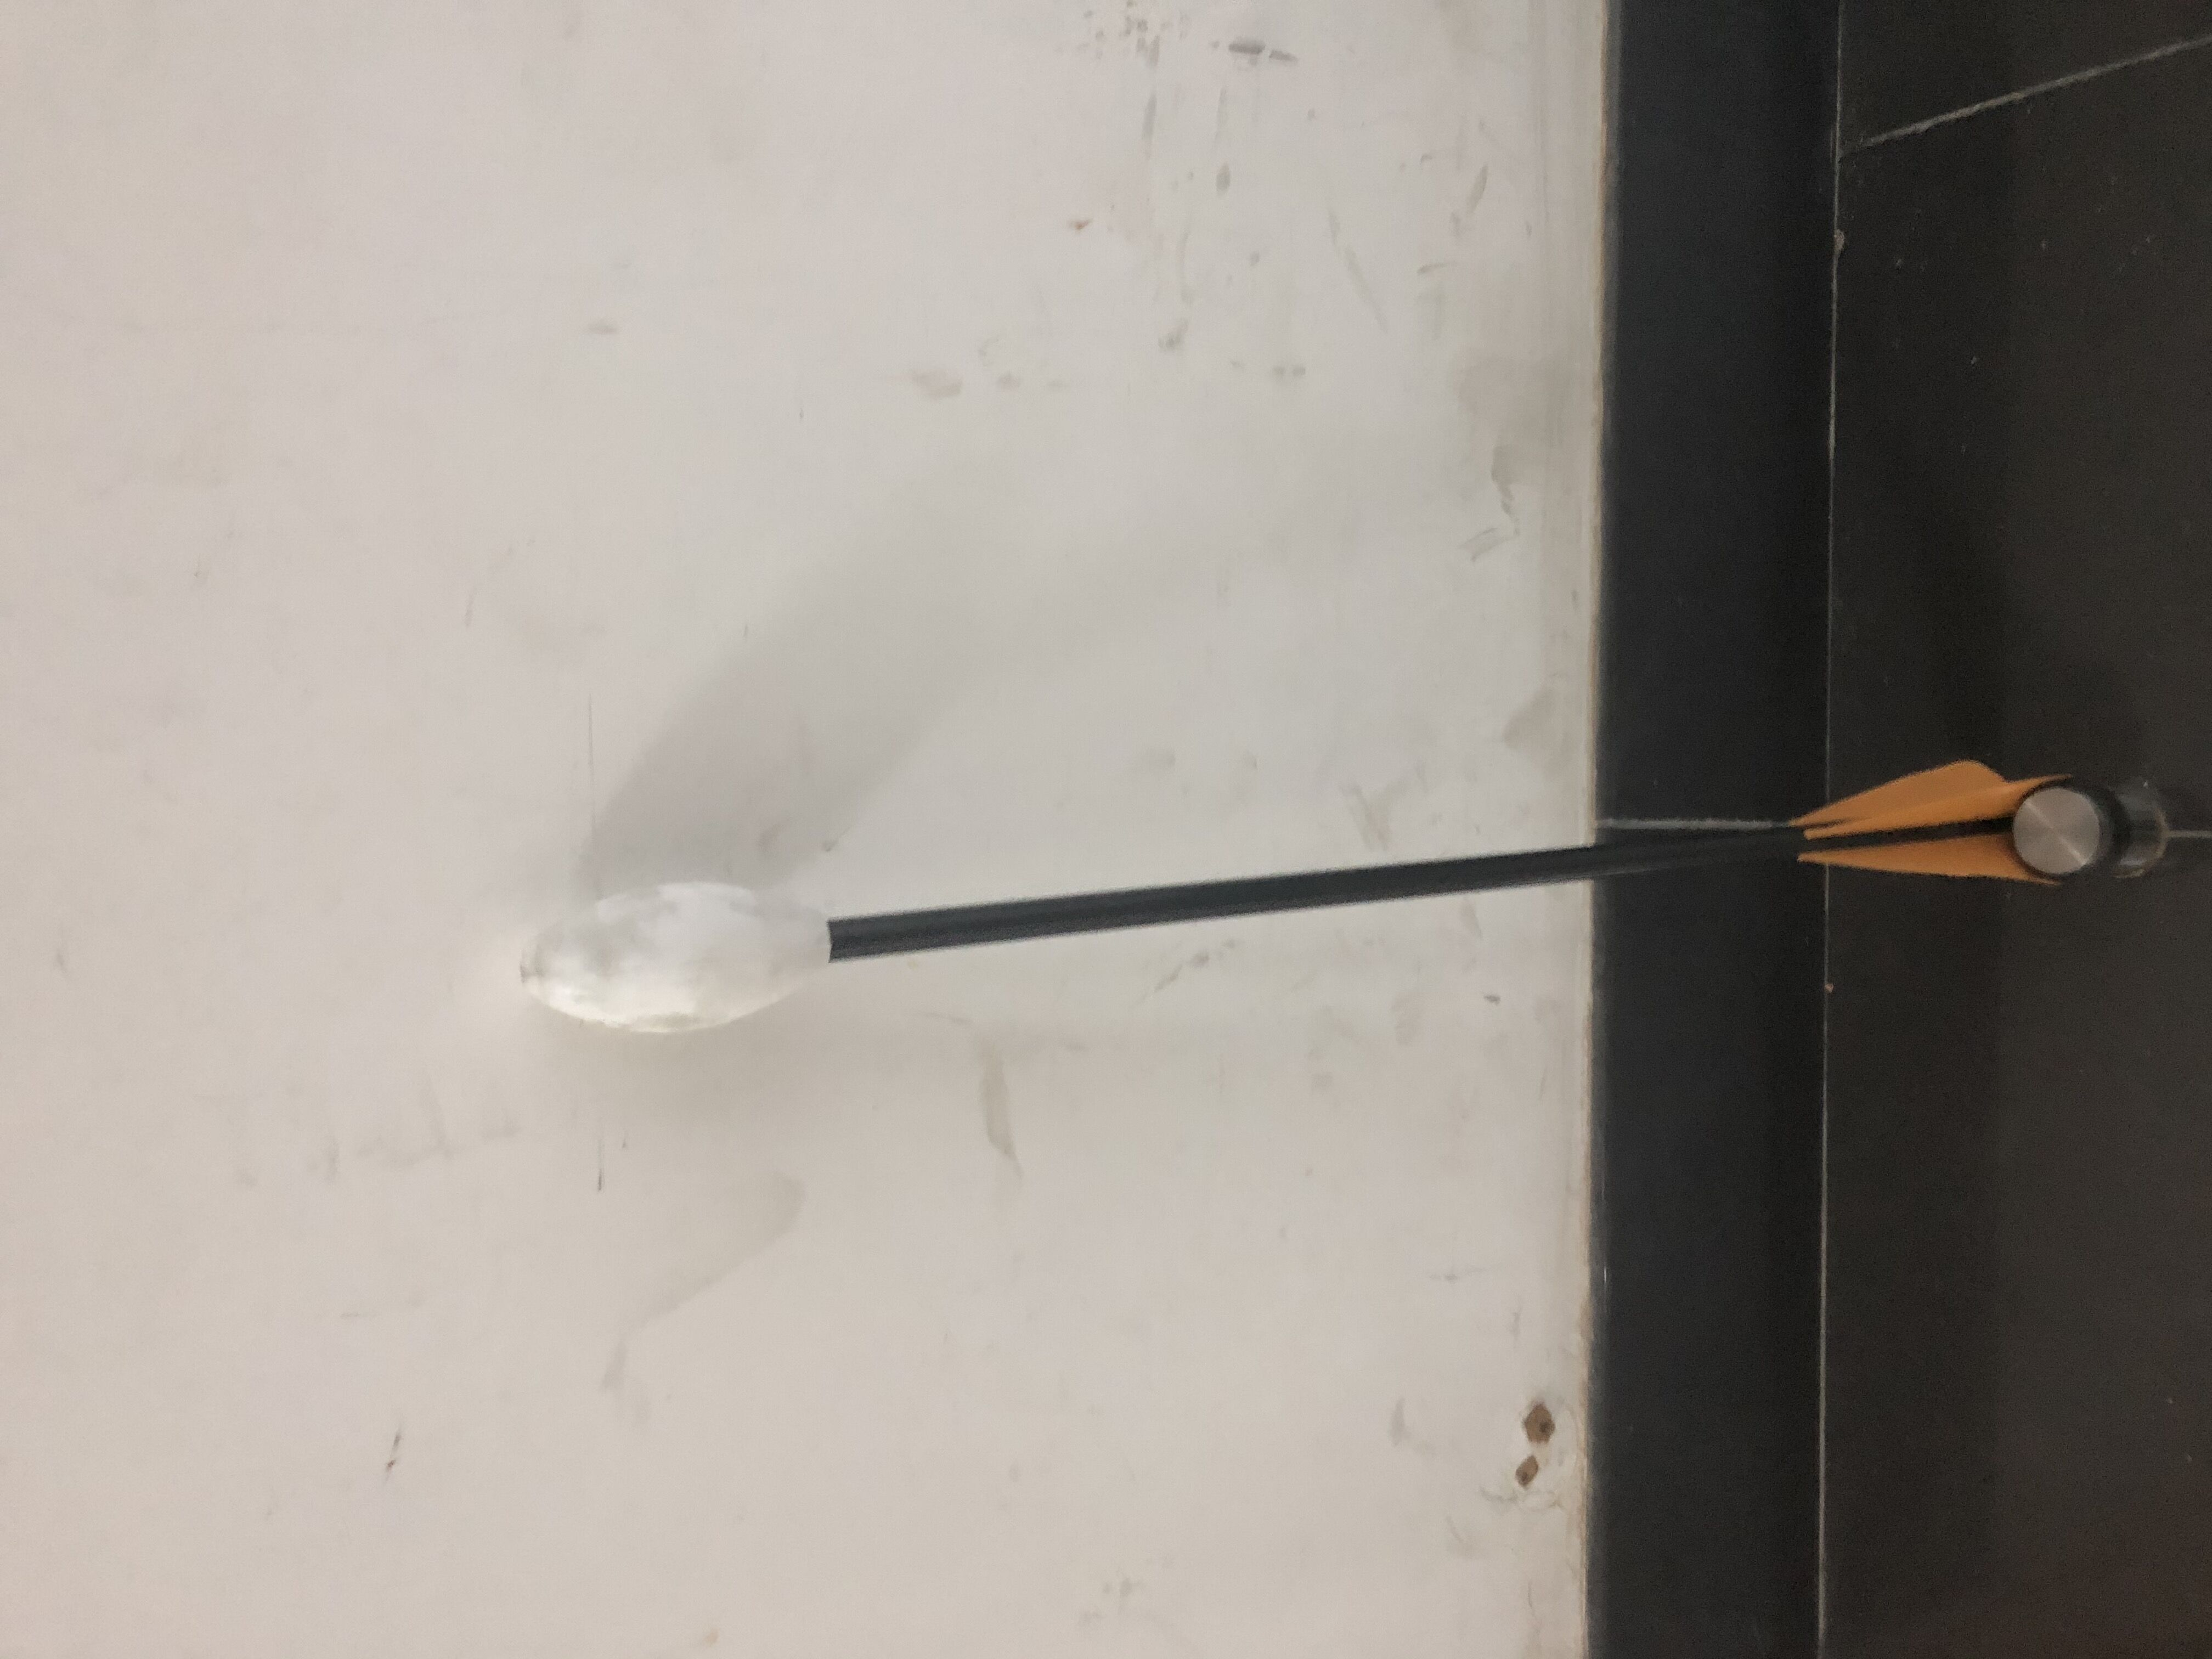arrow: (512, 753, 2076, 1035)
arrowFront: (517, 880, 838, 1035)
